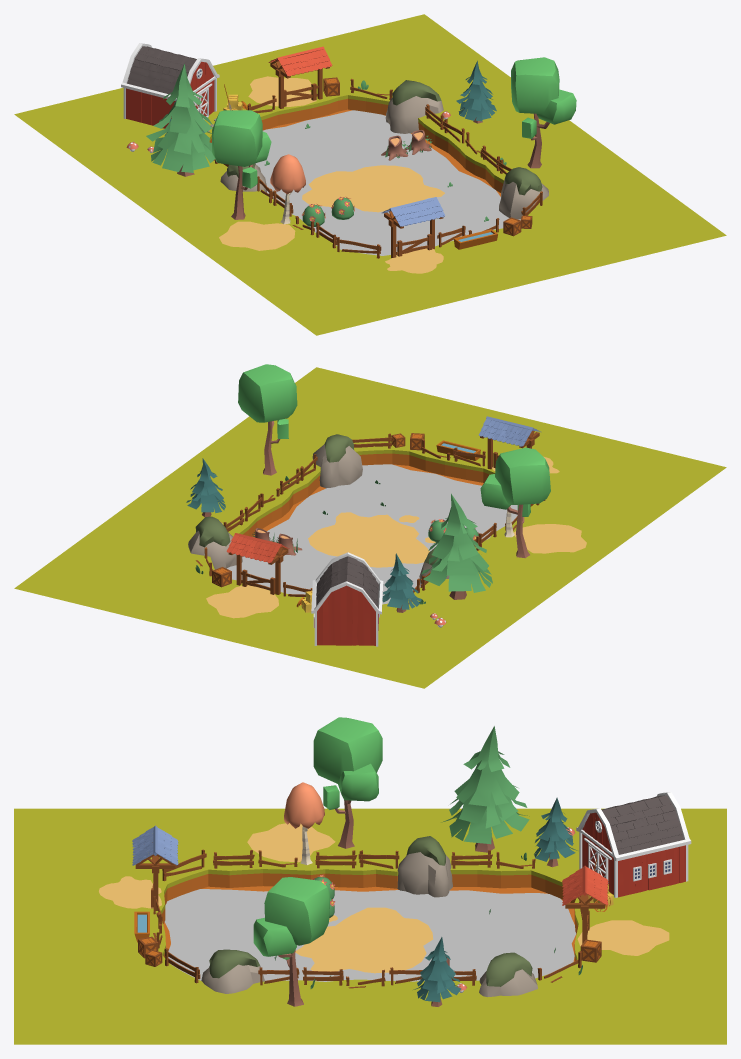
Rendered from farm.fbx.
The picture shows the model from 3 angles, top to bottom: view 1: azimuth 30°, elevation 25°; view 2: azimuth 150°, elevation 25°; view 3: azimuth 270°, elevation 25°; orthographic projection. The views are drawn at different scales.
Parts seen in each view (by area): view 1: Cube.008, Plane.008, barn, Plane.001, pine tree.002, tree.005, tree.027, stone mossy.001, Plane.003, stone mossy.002, Object_270, Object_270.001 (+6 smaller); view 2: Cube.008, Plane.008, barn, Plane.001, tree.027, pine tree.002, tree.005, stone mossy.002, Plane.005, Plane.003, stone mossy.001, Object_270 (+3 smaller); view 3: Cube.008, Plane.008, barn, Plane.001, tree.027, pine tree.002, tree.005, stone mossy, Plane.005, Plane.003, stone mossy.002, stone mossy.001 (+6 smaller).
Boxes of the visible parts, bbox=[...] form: Cube.008: bbox=[14, 14, 726, 335]; Plane.008: bbox=[255, 110, 520, 255]; barn: bbox=[121, 43, 219, 128]; Plane.001: bbox=[302, 165, 444, 212]; pine tree.002: bbox=[146, 64, 214, 176]; tree.005: bbox=[511, 57, 576, 168]; tree.027: bbox=[212, 110, 271, 219]; stone mossy.001: bbox=[385, 80, 443, 133]; Plane.003: bbox=[219, 221, 295, 250]; stone mossy.002: bbox=[499, 167, 548, 219]; Object_270: bbox=[268, 46, 332, 108]; Object_270.001: bbox=[382, 197, 445, 257]; Cube.008: bbox=[14, 367, 726, 688]; Plane.008: bbox=[227, 464, 517, 604]; barn: bbox=[311, 552, 383, 646]; Plane.001: bbox=[308, 512, 429, 567]; tree.027: bbox=[480, 447, 550, 558]; pine tree.002: bbox=[421, 493, 492, 599]; tree.005: bbox=[238, 364, 297, 475]; stone mossy.002: bbox=[312, 434, 362, 488]; Plane.005: bbox=[206, 585, 278, 618]; Plane.003: bbox=[513, 524, 586, 553]; stone mossy.001: bbox=[188, 516, 242, 569]; Object_270: bbox=[226, 533, 289, 594]; Cube.008: bbox=[14, 808, 726, 1044]; Plane.008: bbox=[164, 889, 576, 981]; barn: bbox=[576, 792, 691, 897]; Plane.001: bbox=[295, 907, 433, 973]; tree.027: bbox=[313, 717, 382, 848]; pine tree.002: bbox=[441, 726, 529, 852]; tree.005: bbox=[253, 877, 330, 1006]; stone mossy: bbox=[397, 836, 452, 897]; Plane.005: bbox=[577, 920, 669, 955]; Plane.003: bbox=[247, 823, 335, 862]; stone mossy.002: bbox=[201, 949, 264, 993]; stone mossy.001: bbox=[479, 952, 537, 997].
Bounding box in the file's own units: 10 × 3.02 × 12.76.
